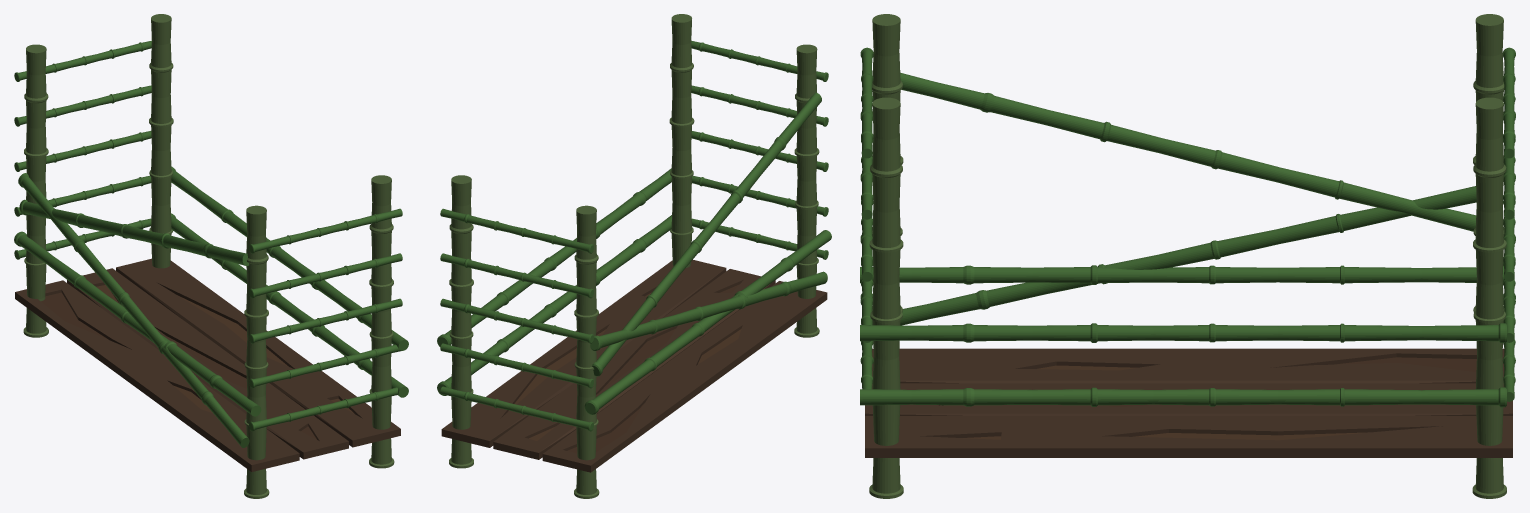
Rendered from Echafaudage 2.fbx.
The picture shows the model from 3 angles, left to right: view 1: azimuth 30°, elevation 25°; view 2: azimuth 150°, elevation 25°; view 3: azimuth 270°, elevation 25°; orthographic projection. The views are drawn at different scales.
Visible parts, largest first — view 1: Cube.002, Cylindre.001, Cylindre.002, Cylindre, Cylindre.003, Cylindre.054, Cylindre.056, Cylindre.055, Cylindre.052, Cylindre.053, Cylindre.032, Cylindre.035 (+8 smaller); view 2: Cube.002, Cylindre, Cylindre.001, Cylindre.003, Cylindre.002, Cylindre.055, Cylindre.056, Cylindre.054, Cylindre.052, Cylindre.053, Cylindre.027, Cylindre.028 (+8 smaller); view 3: Cube.002, Cylindre.053, Cylindre.052, Cylindre.001, Cylindre, Cylindre.055, Cylindre.056, Cylindre.054, Cylindre.002, Cylindre.003, Cylindre.031, Cylindre.032 (+4 smaller).
Part boxes in pixels (x1,y1,x2,y2): Cube.002: (15, 258, 400, 471); Cylindre.001: (369, 175, 394, 468); Cylindre.002: (244, 205, 269, 498); Cylindre: (149, 14, 173, 268); Cylindre.003: (23, 44, 48, 337); Cylindre.054: (18, 173, 249, 447); Cylindre.056: (14, 231, 261, 416); Cylindre.055: (19, 199, 249, 265); Cylindre.052: (171, 166, 408, 350); Cylindre.053: (171, 213, 408, 397); Cylindre.032: (249, 208, 402, 253); Cylindre.035: (249, 298, 402, 343); Cube.002: (441, 260, 827, 472); Cylindre: (449, 175, 473, 468); Cylindre.001: (669, 14, 694, 267); Cylindre.003: (574, 205, 599, 498); Cylindre.002: (794, 44, 819, 337); Cylindre.055: (592, 92, 821, 376); Cylindre.056: (584, 230, 831, 414); Cylindre.054: (590, 271, 827, 350); Cylindre.052: (437, 168, 671, 347); Cylindre.053: (437, 215, 671, 395); Cylindre.027: (440, 386, 593, 431); Cylindre.028: (440, 298, 593, 343); Cube.002: (865, 348, 1512, 457); Cylindre.053: (860, 387, 1506, 407); Cylindre.052: (860, 323, 1506, 342); Cylindre.001: (869, 97, 903, 498); Cylindre: (1472, 97, 1506, 498); Cylindre.055: (900, 72, 1476, 231); Cylindre.056: (860, 265, 1504, 284); Cylindre.054: (900, 186, 1476, 325); Cylindre.002: (872, 14, 903, 312); Cylindre.003: (1473, 14, 1504, 312); Cylindre.031: (1502, 47, 1515, 158); Cylindre.032: (860, 47, 873, 158).
Size of the model in its own units: 346 by 579 by 885.
